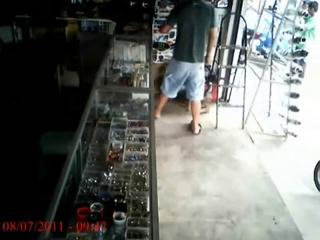Normal: (153, 0, 219, 135)
